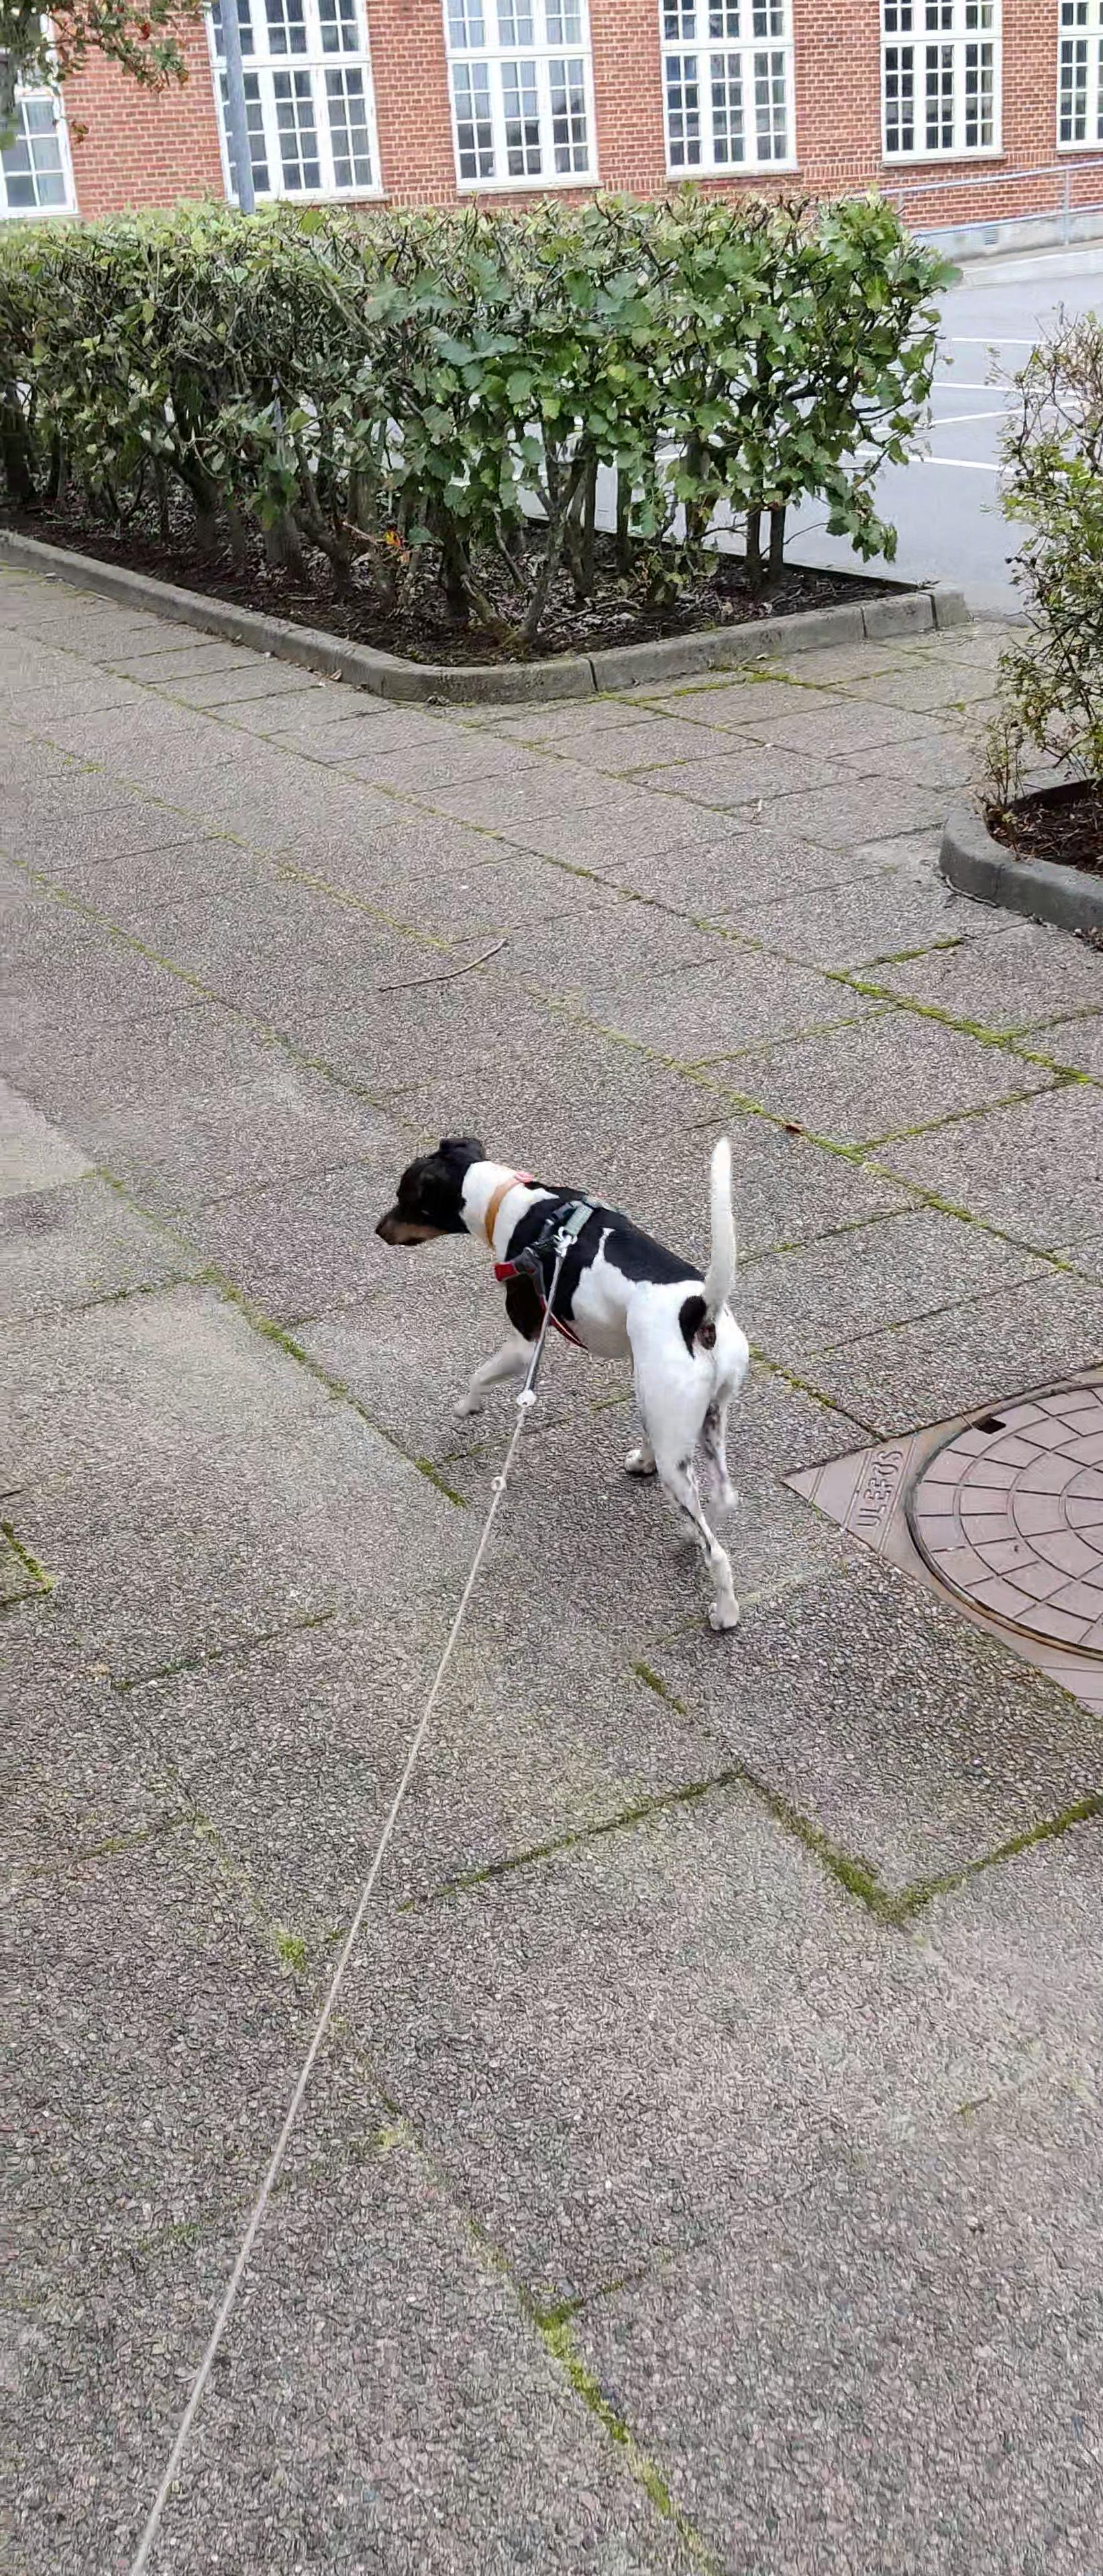Dog: (363, 1124, 773, 1640)
